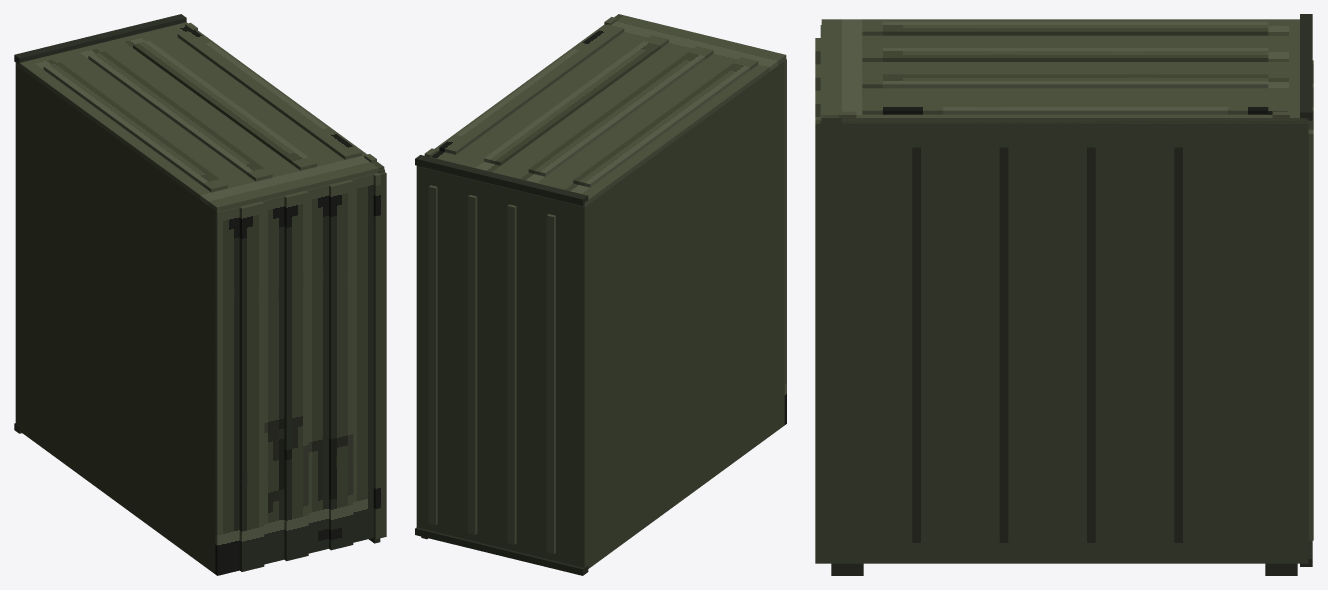
Rendered from CMU3DSectionAU14ContainerMK6Right.glb.
The picture shows the model from 3 angles, left to right: view 1: azimuth 30°, elevation 25°; view 2: azimuth 150°, elevation 25°; view 3: azimuth 270°, elevation 25°; orthographic projection. The views are drawn at different scales.
Parts seen in each view (by area): view 1: closed cargo shell, source-painted roof, painted corrugation 2, painted corrugation 4, painted corrugation 6, painted corrugation 1, painted corrugation 7, painted corrugation 3, painted corrugation 5, painted corrugation 8, source-painted roof ridge 4, source-painted roof ridge 2 (+3 smaller); view 2: closed cargo shell, source-painted roof, rear corrugation (×4), rear horizontal frame (×2), source-painted roof ridge 1, source-painted roof ridge 2, source-painted roof ridge 4, source-painted roof ridge 3, painted corrugation 1, outer end wall; view 3: closed cargo shell, source-painted roof, outer end wall, outer end rib (×4), source-painted roof ridge 1, source-painted roof ridge 3, source-painted roof ridge 4, source-painted roof ridge 2, painted corrugation 8, rear corrugation, rear horizontal frame.
Part boxes in pixels (box(x1,y1,x2,y2)): closed cargo shell: box(15, 65, 215, 573); source-painted roof: box(15, 22, 384, 211); painted corrugation 2: box(239, 201, 264, 571); painted corrugation 4: box(284, 190, 308, 561); painted corrugation 6: box(329, 179, 353, 550); painted corrugation 1: box(215, 207, 239, 575); painted corrugation 7: box(351, 174, 373, 542); painted corrugation 3: box(262, 196, 284, 564); painted corrugation 5: box(306, 185, 328, 553); painted corrugation 8: box(373, 172, 386, 539); source-painted roof ridge 4: box(177, 30, 361, 159); source-painted roof ridge 2: box(88, 51, 272, 181); closed cargo shell: box(416, 61, 784, 568); source-painted roof: box(417, 14, 786, 207); rear corrugation (×4): box(428, 185, 555, 553); rear horizontal frame (×2): box(415, 155, 588, 575); source-painted roof ridge 1: box(573, 57, 758, 187); source-painted roof ridge 2: box(528, 46, 713, 176); source-painted roof ridge 4: box(439, 24, 624, 154); source-painted roof ridge 3: box(484, 35, 668, 165); painted corrugation 1: box(784, 59, 786, 424); outer end wall: box(416, 166, 422, 431); closed cargo shell: box(825, 123, 1308, 563); source-painted roof: box(821, 19, 1308, 123); outer end wall: box(820, 117, 1308, 372); outer end rib (×4): box(912, 146, 1182, 542); source-painted roof ridge 1: box(862, 21, 1268, 35); source-painted roof ridge 3: box(862, 74, 1268, 88); source-painted roof ridge 4: box(862, 100, 1268, 114); source-painted roof ridge 2: box(862, 48, 1268, 61); painted corrugation 8: box(815, 117, 825, 563); rear corrugation: box(1308, 129, 1313, 540); rear horizontal frame: box(1300, 14, 1312, 120).
Bounding box in the file's own units: 0.9455 × 2.05 × 2.
15 materials, 12 textured.
